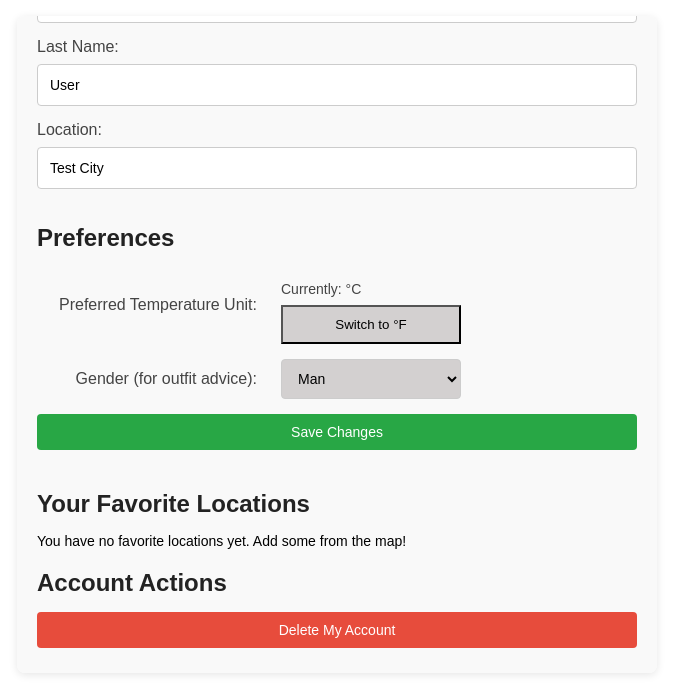
it: UserProfileDisplay Component › parses and displays first_name error on save failure
(page scrolled)
Click the button "Save Changes".
click(337, 432)  # box [37,414,637,450]
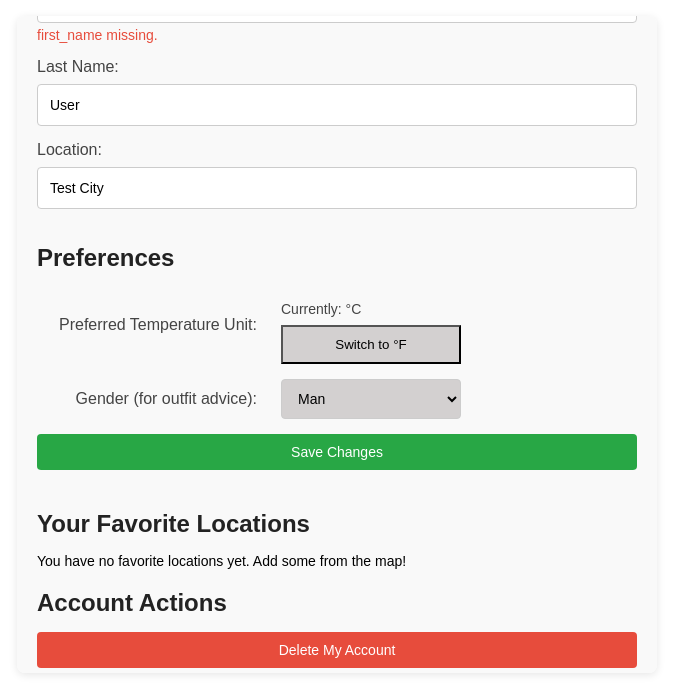
Result: the text "first_name missing." is shown at [37,27,158,43]
